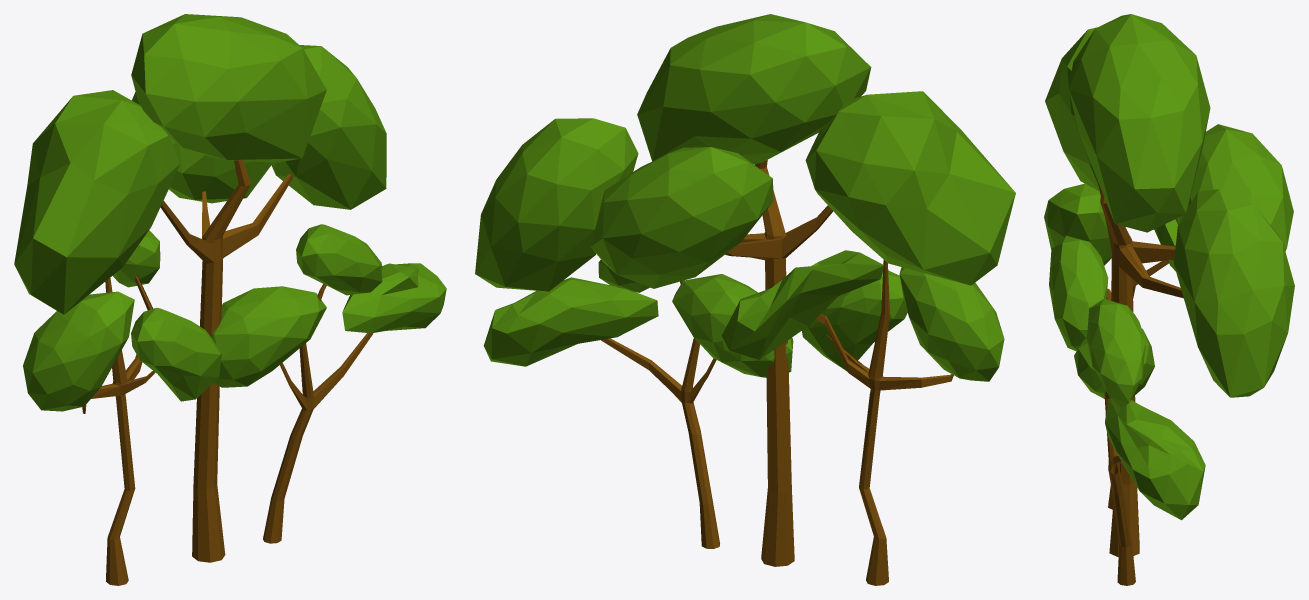
Rendered from arbol4.fbx.
3 renders of one model, left to right at view 1: azimuth 30°, elevation 25°; view 2: azimuth 150°, elevation 25°; view 3: azimuth 270°, elevation 25°, orthographic. The views are drawn at different scales.
Visible parts, largest first — view 1: skpEFB7_1.001; view 2: skpEFB7_1.001; view 3: skpEFB7_1.001.
Part boxes in pixels (box(x1,y1,x2,y2)): skpEFB7_1.001: box(14, 14, 446, 585); skpEFB7_1.001: box(475, 14, 1015, 585); skpEFB7_1.001: box(1044, 14, 1294, 585).
Bounding box in the file's own units: 3817 × 4261 × 1854.
